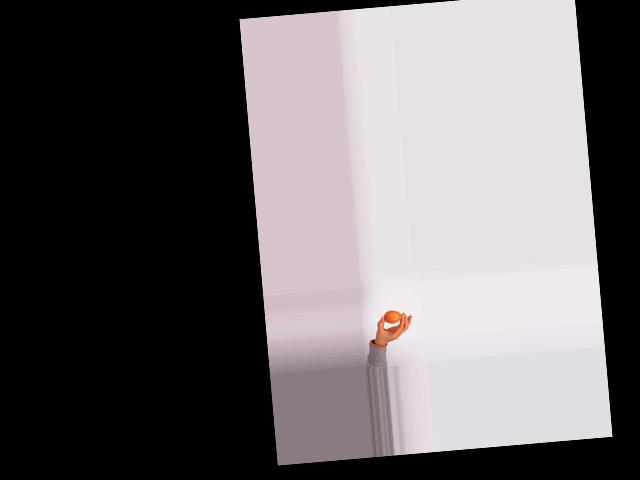egg: (383, 309, 402, 323)
